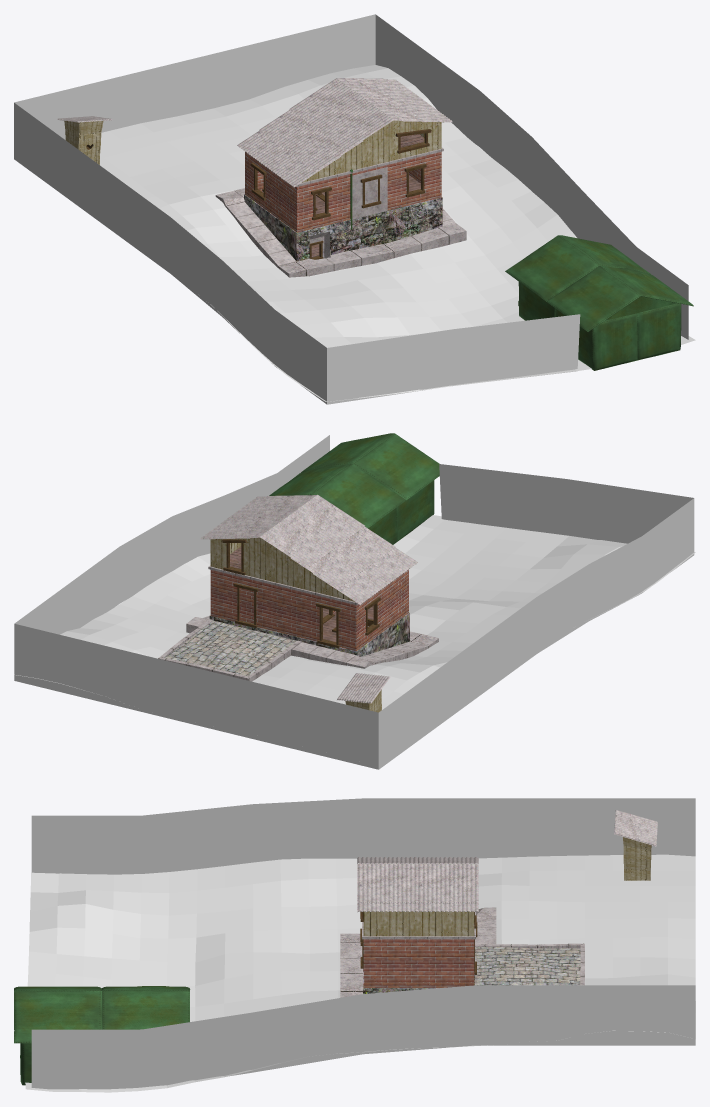
File: Garden.fbx
3 renders of one model, top to bottom at view 1: azimuth 30°, elevation 25°; view 2: azimuth 150°, elevation 25°; view 3: azimuth 270°, elevation 25°, orthographic. The views are drawn at different scales.
Visible parts, largest first — view 1: Wall, Garden, House, Garage, RoofTile, DoorFrame, WallSegment, Toilette; view 2: Wall, Garden, House, RoofTile, Garage, DoorFrame, Toilette; view 3: Wall, Garden, House, Garage, RoofTile, Toilette.
Part boxes in pixels (x1=…): Wall: x1=14, y1=14, x2=688, y2=404; Garden: x1=100, y1=65, x2=695, y2=401; House: x1=215, y1=120, x2=466, y2=277; Garage: x1=505, y1=235, x2=693, y2=370; RoofTile: x1=237, y1=78, x2=452, y2=187; DoorFrame: x1=250, y1=129, x2=431, y2=259; WallSegment: x1=350, y1=167, x2=387, y2=229; Toilette: x1=57, y1=116, x2=112, y2=164; Wall: x1=14, y1=435, x2=694, y2=769; Garden: x1=14, y1=515, x2=695, y2=709; House: x1=158, y1=537, x2=438, y2=681; RoofTile: x1=200, y1=494, x2=417, y2=604; Garage: x1=269, y1=433, x2=439, y2=544; DoorFrame: x1=222, y1=539, x2=380, y2=648; Toilette: x1=337, y1=673, x2=390, y2=712; Wall: x1=31, y1=798, x2=695, y2=1089; Garden: x1=25, y1=854, x2=695, y2=1092; House: x1=340, y1=863, x2=584, y2=997; Garage: x1=14, y1=986, x2=190, y2=1085; RoofTile: x1=357, y1=857, x2=478, y2=912; Toilette: x1=614, y1=810, x2=657, y2=880.
Size of what is drawn, in the model's own units: 2038 by 807 by 3082.
